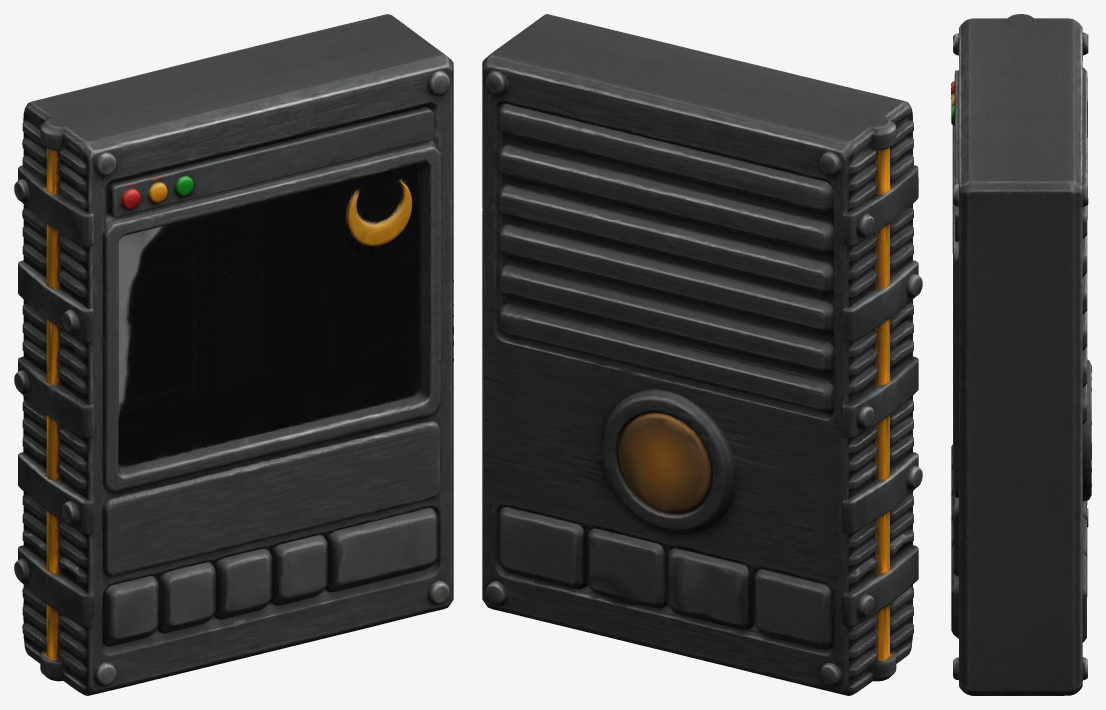
File: watchers.glb
The picture shows the model from 3 angles, left to right: view 1: azimuth 30°, elevation 25°; view 2: azimuth 150°, elevation 25°; view 3: azimuth 270°, elevation 25°; orthographic projection. The views are drawn at different scales.
Parts seen in each view (by area): view 1: S_body, K_4, K_1, K_2, K_3, K_0, S_moon; view 2: S_body, B_power; view 3: S_body, K_4.
Boxes of the visible parts, x1,y1,x2,y2 form: S_body: (14,14,453,695); K_4: (314,503,439,591); K_1: (152,557,222,632); K_2: (213,545,274,618); K_3: (266,532,329,604); K_0: (103,570,166,653); S_moon: (346,181,412,246); S_body: (482,14,922,695); B_power: (617,413,713,515); S_body: (951,14,1091,695); K_4: (951,545,958,638).
Bounding box in the file's own units: 0.7068 × 0.9779 × 0.2423.
Materials: 1 (1 with a texture image).
